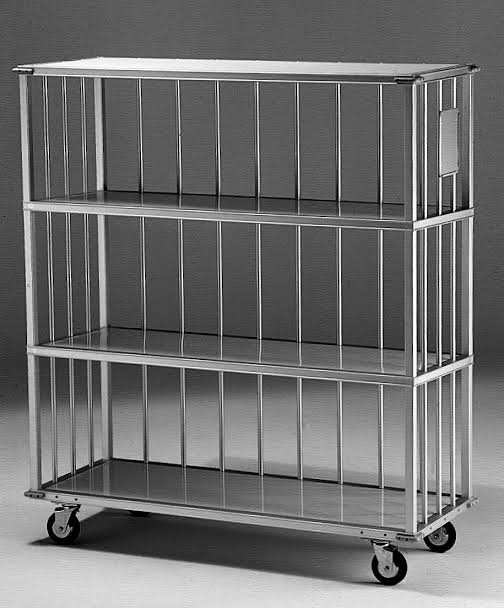Carts: (11, 55, 478, 584)
